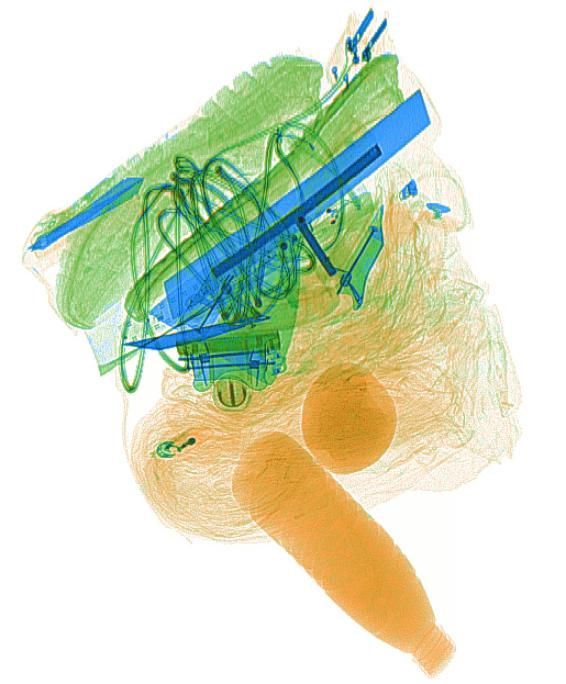knife: (26, 173, 142, 252)
lighter: (153, 423, 214, 458)
